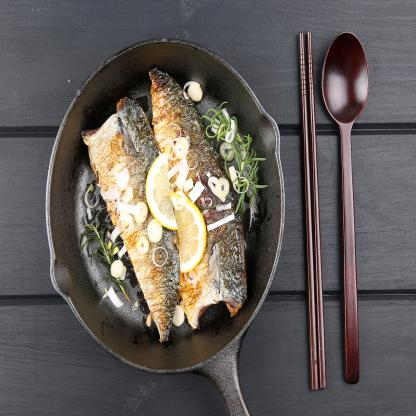Peixe: (100, 56, 252, 324)
